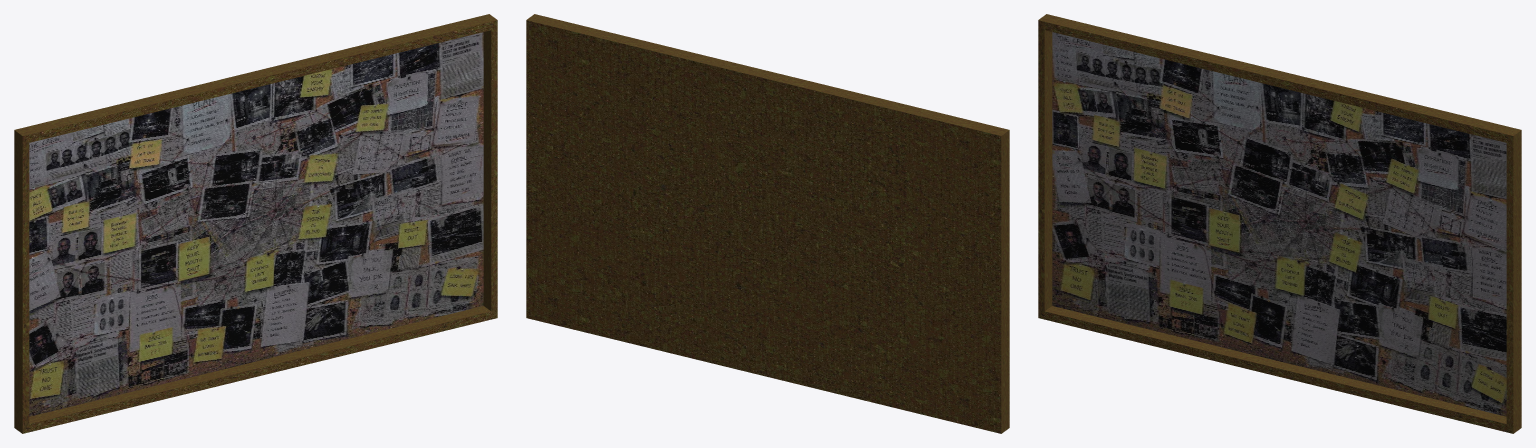
The model's file is psx_-_corkevidence_board_2.glb.
3 renders of one model, left to right at view 1: azimuth 30°, elevation 25°; view 2: azimuth 150°, elevation 25°; view 3: azimuth 330°, elevation 25°, orthographic.
Visible parts, largest first — view 1: polySurface111_lambert38_0, polySurface111_lambert8_0; view 2: polySurface111_lambert8_0; view 3: polySurface111_lambert38_0, polySurface111_lambert8_0.
Boxes of the visible parts, bbox=[...] form: polySurface111_lambert38_0: bbox=[29, 32, 483, 416]; polySurface111_lambert8_0: bbox=[14, 14, 497, 433]; polySurface111_lambert8_0: bbox=[526, 14, 1009, 433]; polySurface111_lambert38_0: bbox=[1052, 32, 1506, 416]; polySurface111_lambert8_0: bbox=[1038, 14, 1521, 433].
Size of the model in its own units: 0.0946 by 0.0567 by 0.00294.
Materials: 2 (2 with a texture image).
